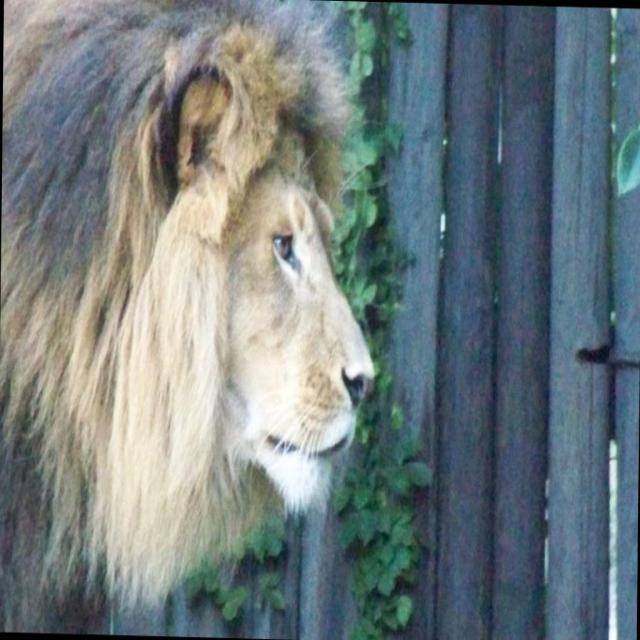Lion: (0, 0, 391, 639)
